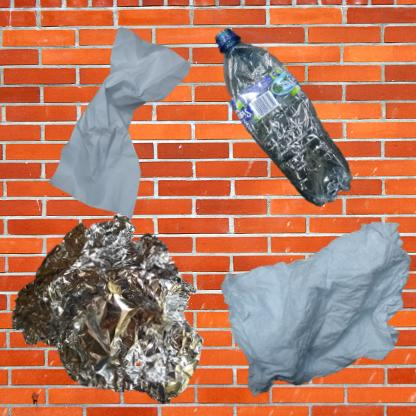aluminio: (10, 213, 206, 404)
botella: (213, 10, 369, 239)
papel: (10, 10, 244, 259), (213, 213, 416, 413)
